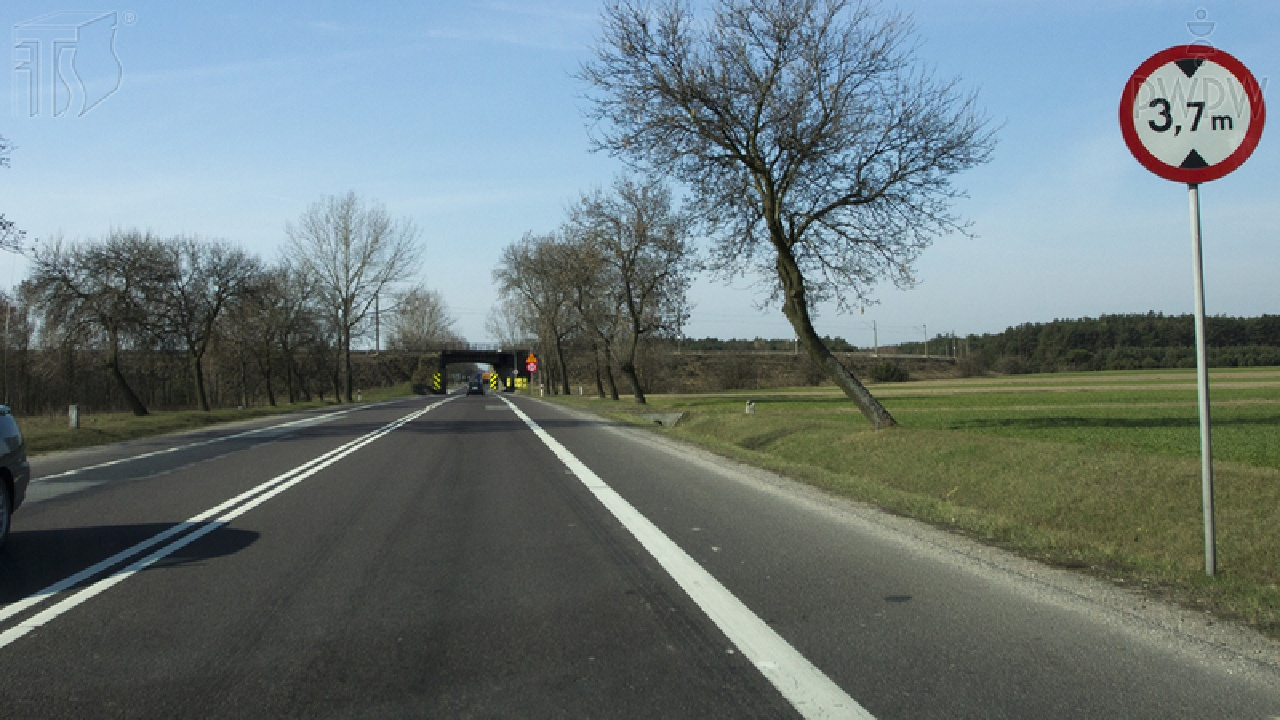B16_3_7: (1114, 45, 1266, 183)
